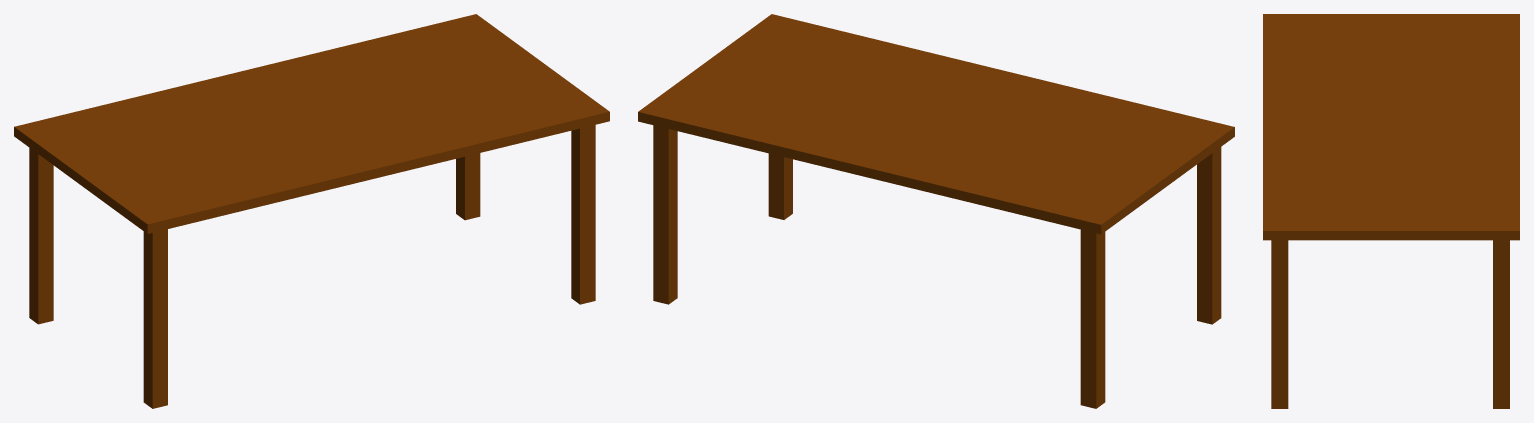
Rendered from стіл.fbx.
The picture shows the model from 3 angles, left to right: view 1: azimuth 30°, elevation 25°; view 2: azimuth 150°, elevation 25°; view 3: azimuth 270°, elevation 25°; orthographic projection. The views are drawn at different scales.
Parts seen in each view (by area): view 1: Cube, Куб, Куб.001, Куб.003, Куб.002; view 2: Cube, Куб.003, Куб.002, Куб, Куб.001; view 3: Cube, Куб.001, Куб.002.
Boxes of the visible parts, x1,y1,x2,y2 form: Cube: [14, 14, 609, 233]; Куб: [143, 229, 167, 408]; Куб.001: [571, 125, 595, 304]; Куб.003: [29, 148, 53, 324]; Куб.002: [456, 153, 480, 220]; Cube: [638, 14, 1234, 234]; Куб.003: [1080, 229, 1105, 408]; Куб.002: [653, 125, 677, 304]; Куб: [1197, 147, 1221, 324]; Куб.001: [768, 153, 792, 219]; Cube: [1263, 14, 1519, 240]; Куб.001: [1271, 240, 1288, 408]; Куб.002: [1493, 240, 1509, 408].
Size of the model in its own units: 600 by 236 by 300.
